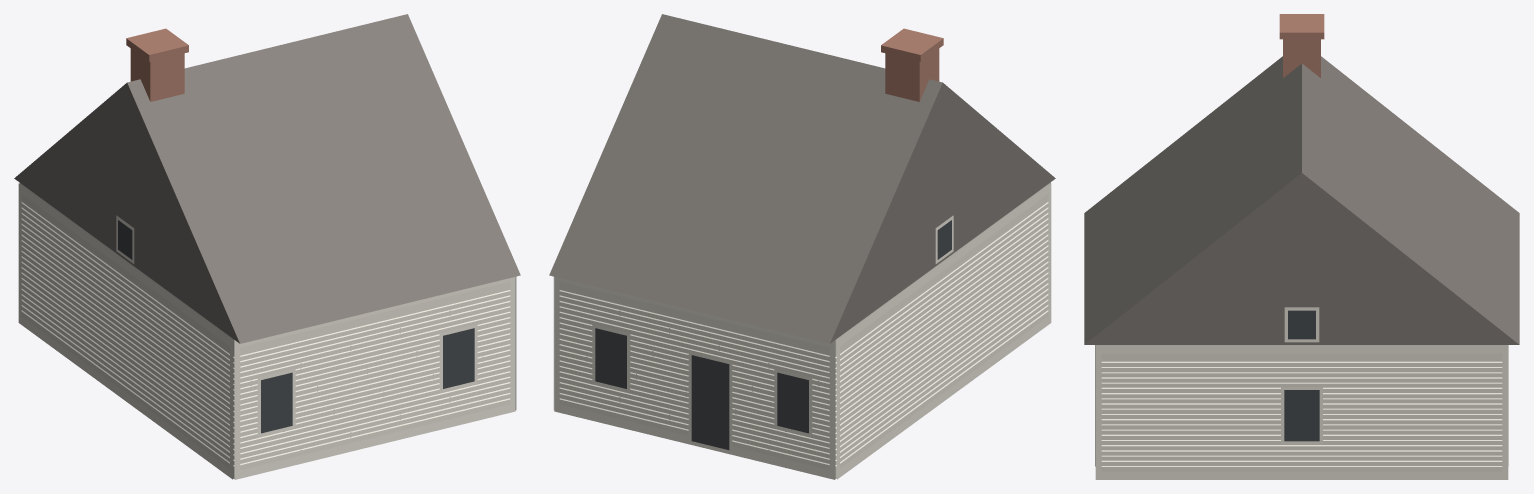
Rendered from recon_1835_blk_randolph_dearborn_d6_10__inferred_1835.glb.
3 views of the same model, side by side, from view 1: azimuth 30°, elevation 25°; view 2: azimuth 150°, elevation 25°; view 3: azimuth 270°, elevation 25° (orthographic). The views are drawn at different scales.
Visible parts, largest first — view 1: recon_1835_blk_randolph_dearborn_d6_10__inferred_1835; view 2: recon_1835_blk_randolph_dearborn_d6_10__inferred_1835; view 3: recon_1835_blk_randolph_dearborn_d6_10__inferred_1835.
Part boxes in pixels (x1,y1,x2,y2): recon_1835_blk_randolph_dearborn_d6_10__inferred_1835: [14, 14, 520, 479]; recon_1835_blk_randolph_dearborn_d6_10__inferred_1835: [549, 14, 1055, 479]; recon_1835_blk_randolph_dearborn_d6_10__inferred_1835: [1084, 14, 1519, 479].
Bounding box in the file's own units: 6.99 × 8.25 × 9.61.
